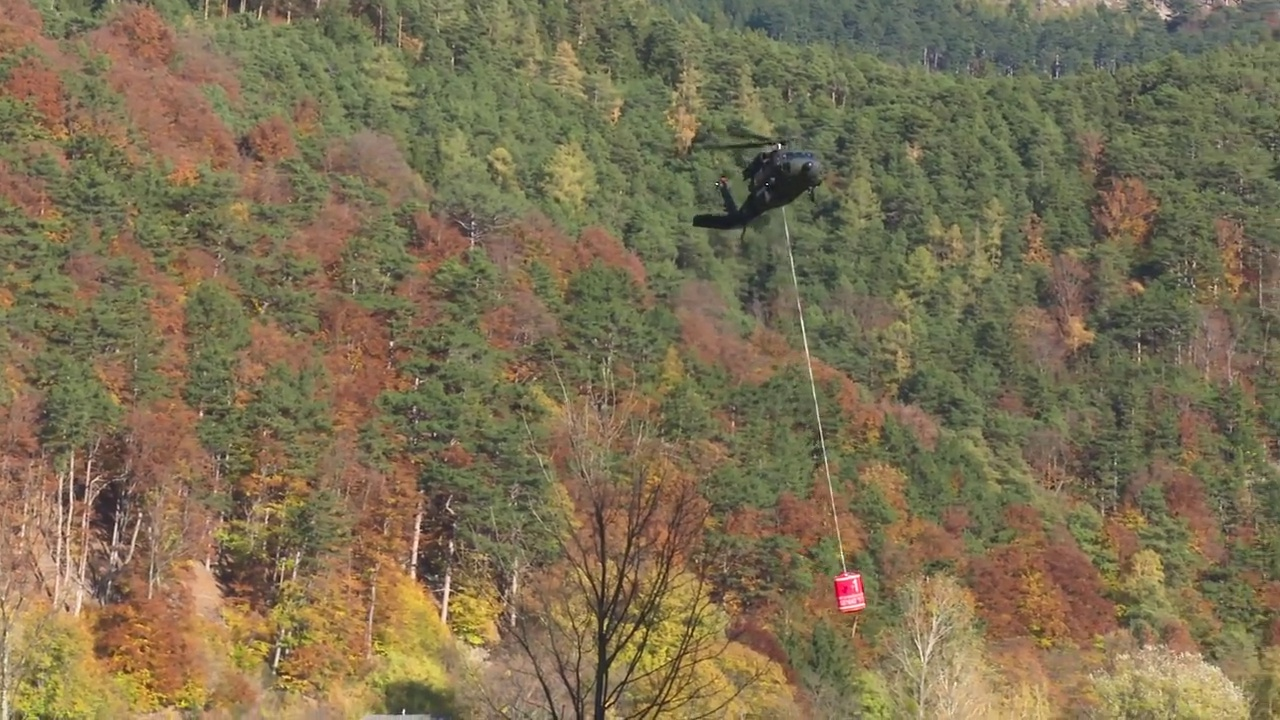heli: (692, 126, 824, 245)
